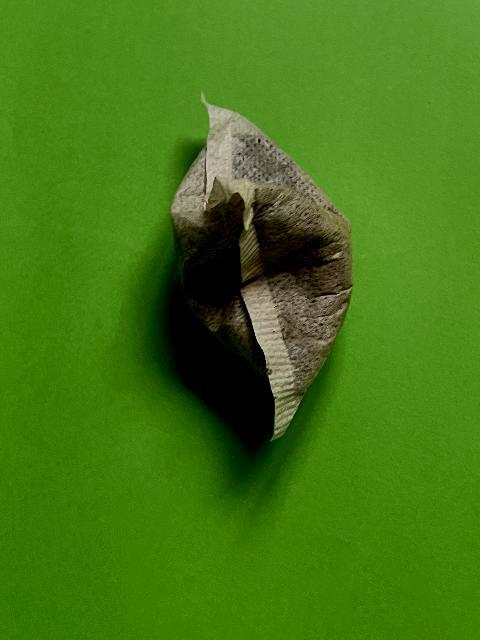teabag: (169, 88, 355, 446)
